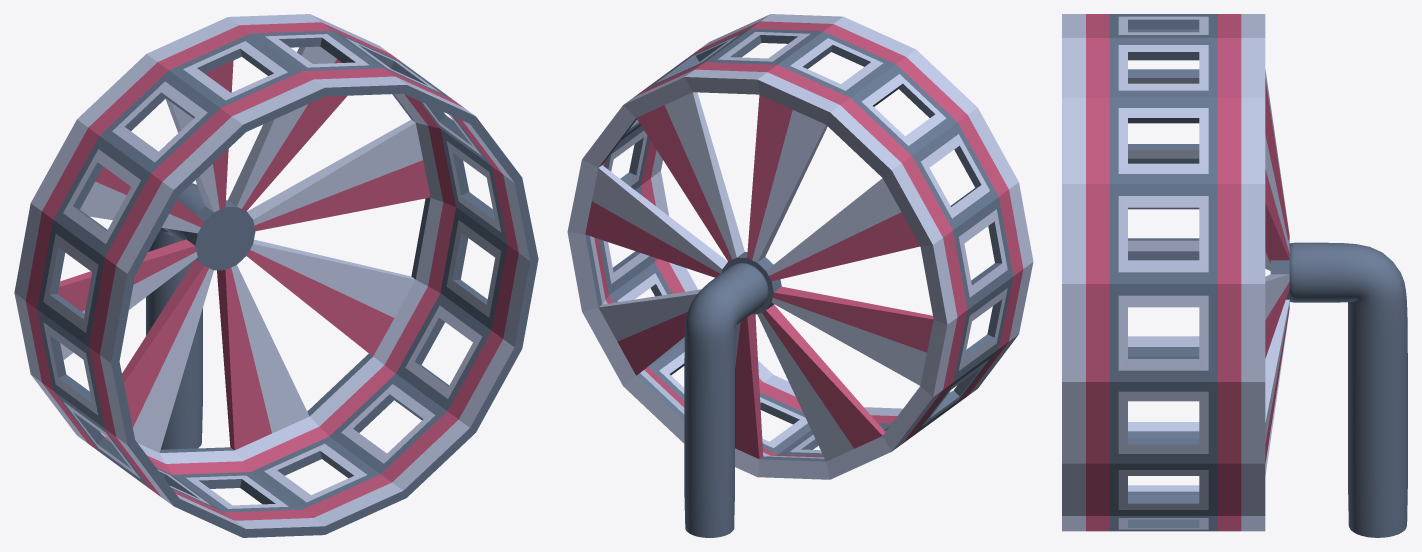
Rendered from Hamster-Wheel.fbx.
3 views of the same model, side by side, from view 1: azimuth 30°, elevation 25°; view 2: azimuth 150°, elevation 25°; view 3: azimuth 270°, elevation 25° (orthographic). The views are drawn at different scales.
Parts seen in each view (by area): view 1: Wheel, Wheel Holder; view 2: Wheel, Wheel Holder; view 3: Wheel, Wheel Holder.
Boxes of the visible parts, x1=… form: Wheel: x1=14, y1=14, x2=538, y2=537; Wheel Holder: x1=146, y1=183, x2=204, y2=449; Wheel: x1=567, y1=14, x2=1033, y2=479; Wheel Holder: x1=684, y1=263, x2=768, y2=537; Wheel: x1=1062, y1=14, x2=1289, y2=531; Wheel Holder: x1=1289, y1=242, x2=1407, y2=537.
Size of the model in its own units: 612 by 636 by 409.
